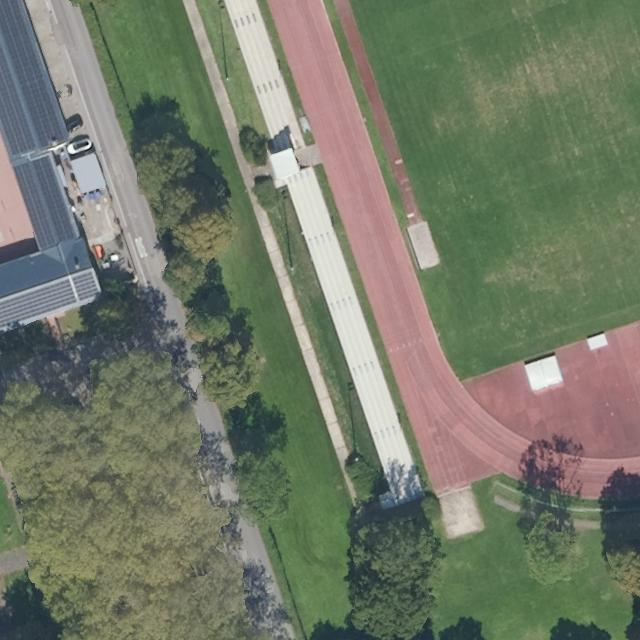PV: (0, 0, 68, 159), (12, 155, 77, 252), (0, 276, 80, 330), (71, 270, 101, 303)
